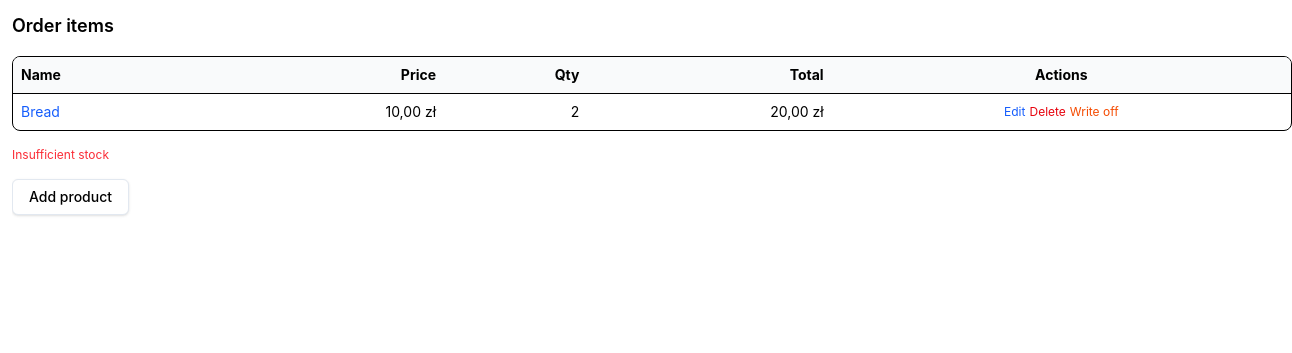
OrderItemsEditor › shows a visible error when write-off fails
Step 1. Click the button "Write off" → (1094, 112), box x1=1070 y1=104 x2=1119 y2=120
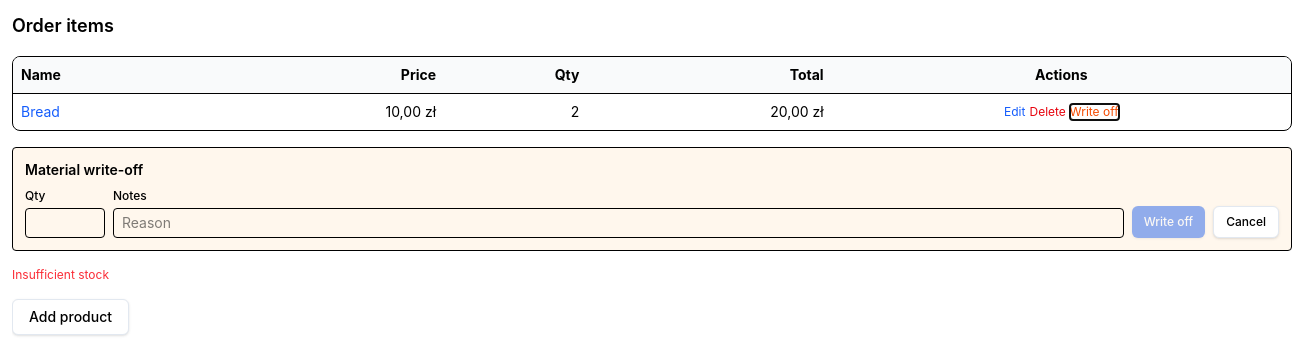
Expected: the message reads "Insufficient stock", x1=12 y1=267 x2=109 y2=282
Now the number field labelled "Qty" is shown, box x1=25 y1=208 x2=105 y2=238
